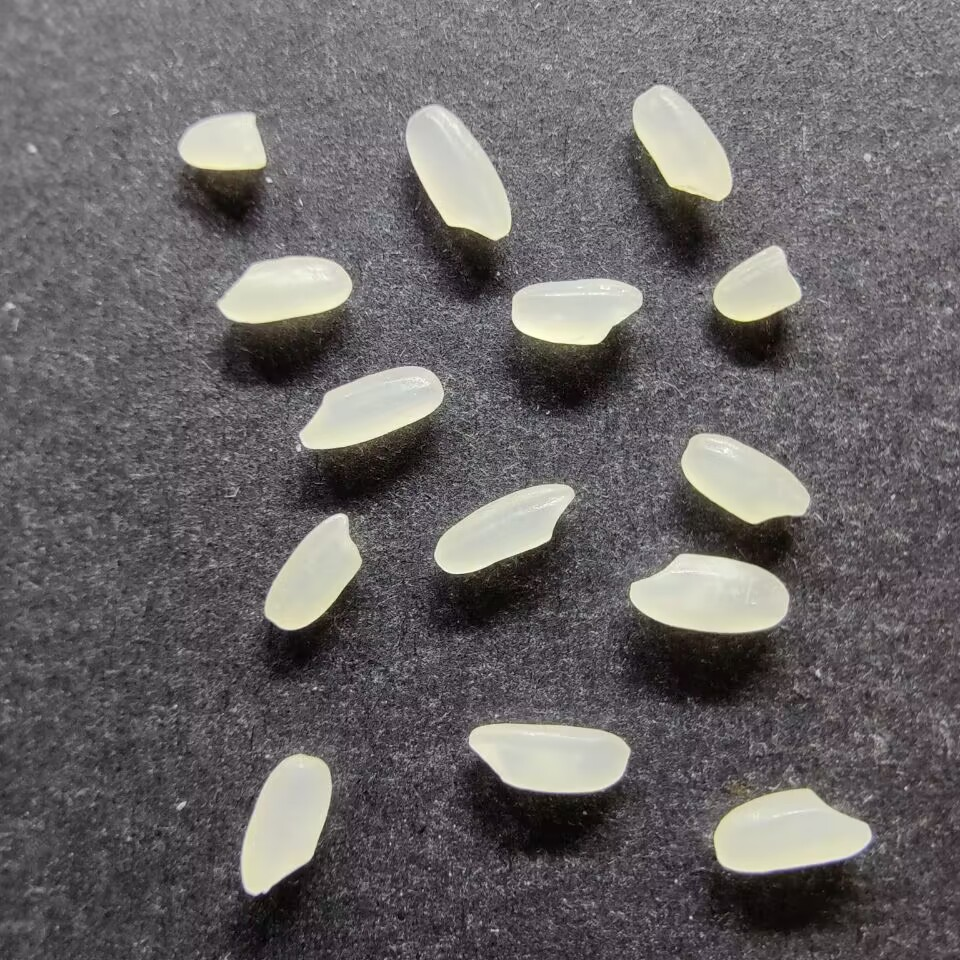broken: (710, 243, 803, 323), (175, 111, 271, 172)
rice: (403, 103, 514, 242), (237, 752, 334, 899), (711, 786, 873, 874), (432, 480, 575, 576), (627, 551, 790, 634), (678, 431, 813, 528), (297, 364, 445, 450), (629, 82, 734, 201), (466, 720, 630, 795), (261, 512, 363, 632), (215, 254, 352, 325), (509, 276, 644, 347)
